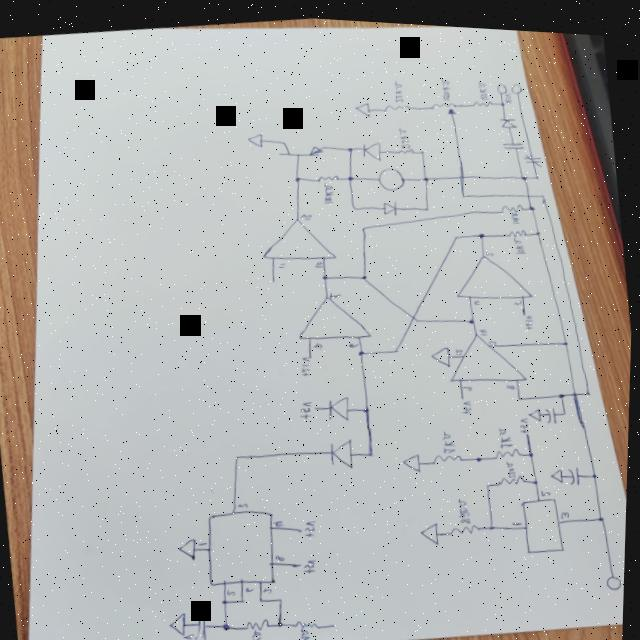capacitor: (197, 606, 215, 638), (569, 457, 584, 479), (547, 399, 561, 417)
crossover: (411, 306, 423, 318), (459, 168, 469, 175), (574, 383, 581, 390), (527, 186, 531, 190)
diode: (330, 431, 359, 465), (325, 391, 355, 419), (362, 135, 384, 158), (382, 193, 401, 212), (499, 108, 520, 123)
ground: (180, 532, 205, 560), (170, 609, 192, 635), (403, 446, 426, 469), (422, 515, 444, 539), (432, 339, 454, 362), (354, 94, 373, 114), (248, 128, 266, 147), (553, 461, 567, 476), (531, 402, 545, 415)
inductor: (377, 160, 408, 188)
junction: (491, 515, 501, 525), (225, 619, 236, 628), (361, 268, 372, 277), (321, 268, 332, 277), (470, 310, 479, 320), (365, 400, 374, 410), (394, 341, 404, 350), (348, 168, 357, 177), (479, 224, 488, 233), (600, 506, 609, 515), (224, 594, 233, 603), (369, 445, 379, 453), (347, 140, 356, 148), (593, 464, 602, 472), (352, 199, 361, 207), (535, 471, 544, 479), (361, 219, 370, 227), (280, 616, 288, 624), (487, 475, 495, 483), (424, 199, 432, 207), (454, 227, 462, 235), (423, 169, 432, 176), (295, 171, 304, 178), (521, 167, 530, 174), (359, 344, 368, 351), (237, 450, 245, 457), (536, 222, 543, 230), (462, 185, 469, 193), (588, 381, 595, 389), (529, 197, 536, 205), (541, 185, 548, 193), (478, 449, 486, 456), (565, 332, 572, 339), (530, 444, 537, 451), (420, 143, 427, 150), (281, 593, 289, 599), (519, 388, 526, 394), (262, 593, 268, 599), (244, 594, 250, 600), (561, 385, 568, 390), (502, 94, 507, 100), (564, 403, 570, 408), (273, 273, 278, 278)
resistor: (430, 91, 462, 112), (452, 516, 485, 532), (434, 445, 469, 460), (247, 612, 275, 629), (497, 438, 524, 454), (500, 466, 530, 480), (298, 613, 326, 627), (500, 194, 524, 208), (384, 96, 412, 108), (317, 167, 342, 180), (472, 91, 495, 103), (508, 220, 529, 233), (396, 140, 417, 151)
switch: (523, 146, 546, 163), (502, 133, 526, 145)
terminal: (609, 566, 627, 583), (510, 76, 525, 88), (498, 76, 509, 87), (333, 618, 341, 624), (299, 557, 306, 563), (309, 348, 315, 354), (527, 425, 532, 431), (316, 401, 322, 406), (301, 523, 307, 528), (523, 304, 528, 309), (463, 389, 467, 393)
text: (459, 490, 477, 520), (443, 422, 461, 449), (500, 418, 517, 443), (323, 177, 339, 201), (301, 350, 317, 374), (300, 395, 317, 417), (393, 73, 407, 99), (513, 230, 530, 249), (398, 120, 412, 143), (508, 452, 522, 474), (251, 624, 270, 640), (306, 513, 321, 533), (440, 72, 453, 95), (302, 622, 318, 640), (478, 73, 490, 94), (306, 554, 321, 570), (182, 628, 200, 640), (510, 202, 522, 219), (522, 409, 533, 427), (463, 392, 475, 408), (525, 307, 537, 322), (301, 206, 316, 218), (480, 319, 493, 331), (464, 377, 477, 389), (314, 335, 326, 347), (349, 334, 361, 346), (279, 256, 290, 267), (315, 254, 326, 265), (278, 549, 290, 559), (230, 584, 242, 594), (514, 512, 526, 522), (543, 481, 556, 490), (240, 497, 253, 506), (330, 287, 344, 295), (456, 340, 467, 350), (474, 290, 484, 301), (266, 581, 277, 591), (248, 581, 260, 590), (276, 514, 288, 523), (505, 86, 514, 98), (508, 375, 519, 384), (563, 502, 574, 511), (514, 291, 525, 300), (487, 242, 498, 250), (490, 333, 500, 339), (201, 538, 212, 543)
transistor: (277, 130, 329, 160)
